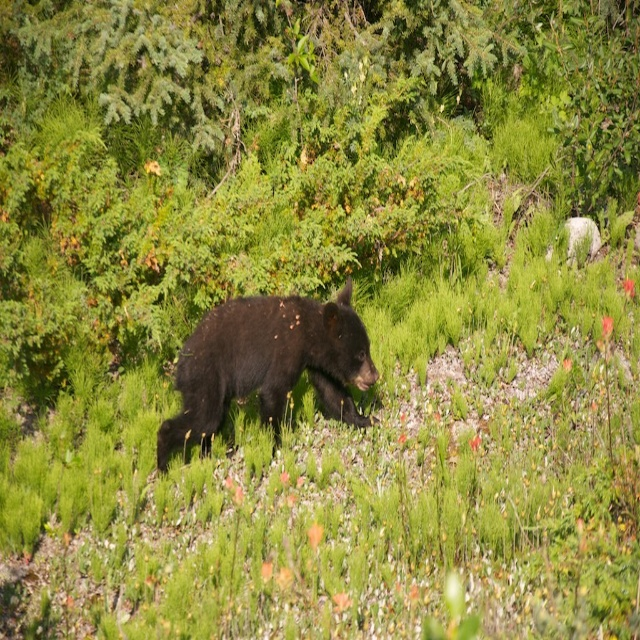Bear: (157, 277, 379, 456)
